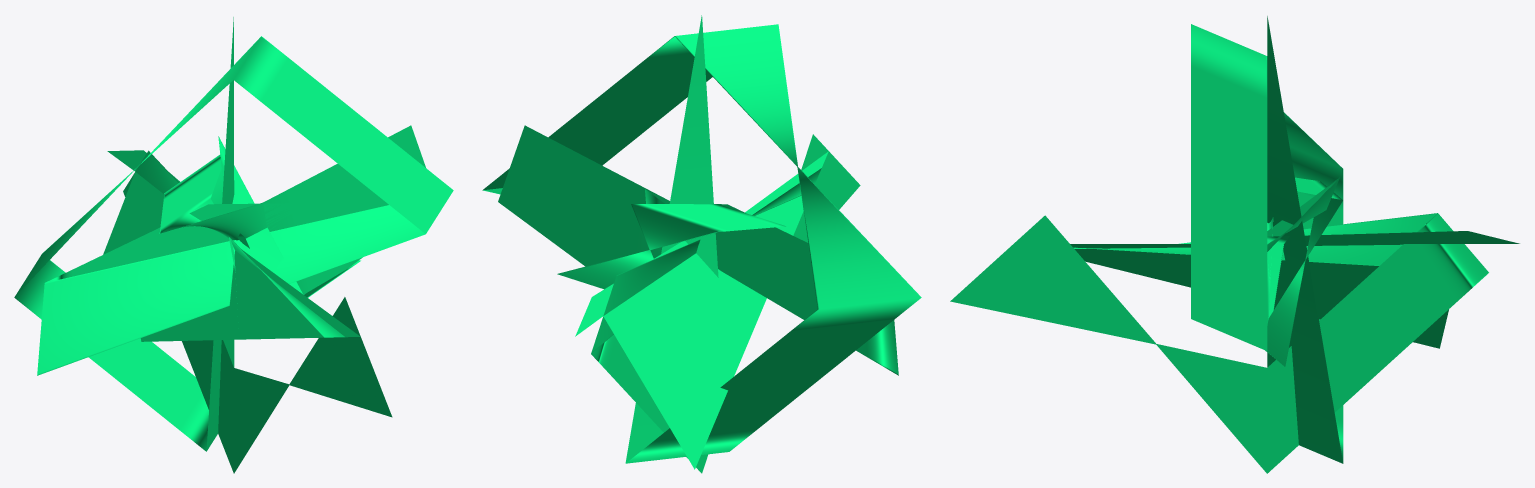
The model's file is n_orthoplex_6d_ar_universal.glb.
3 renders of one model, left to right at view 1: azimuth 30°, elevation 25°; view 2: azimuth 150°, elevation 25°; view 3: azimuth 270°, elevation 25°, orthographic.
Visible parts, largest first — view 1: n_orthoplex_6d_ar; view 2: n_orthoplex_6d_ar; view 3: n_orthoplex_6d_ar.
Part boxes in pixels (<box>): n_orthoplex_6d_ar: <box>14,17,453,473</box>; n_orthoplex_6d_ar: <box>482,15,921,473</box>; n_orthoplex_6d_ar: <box>950,16,1519,473</box>.
Size of the model in its own units: 0.8889 by 0.8889 by 1.
